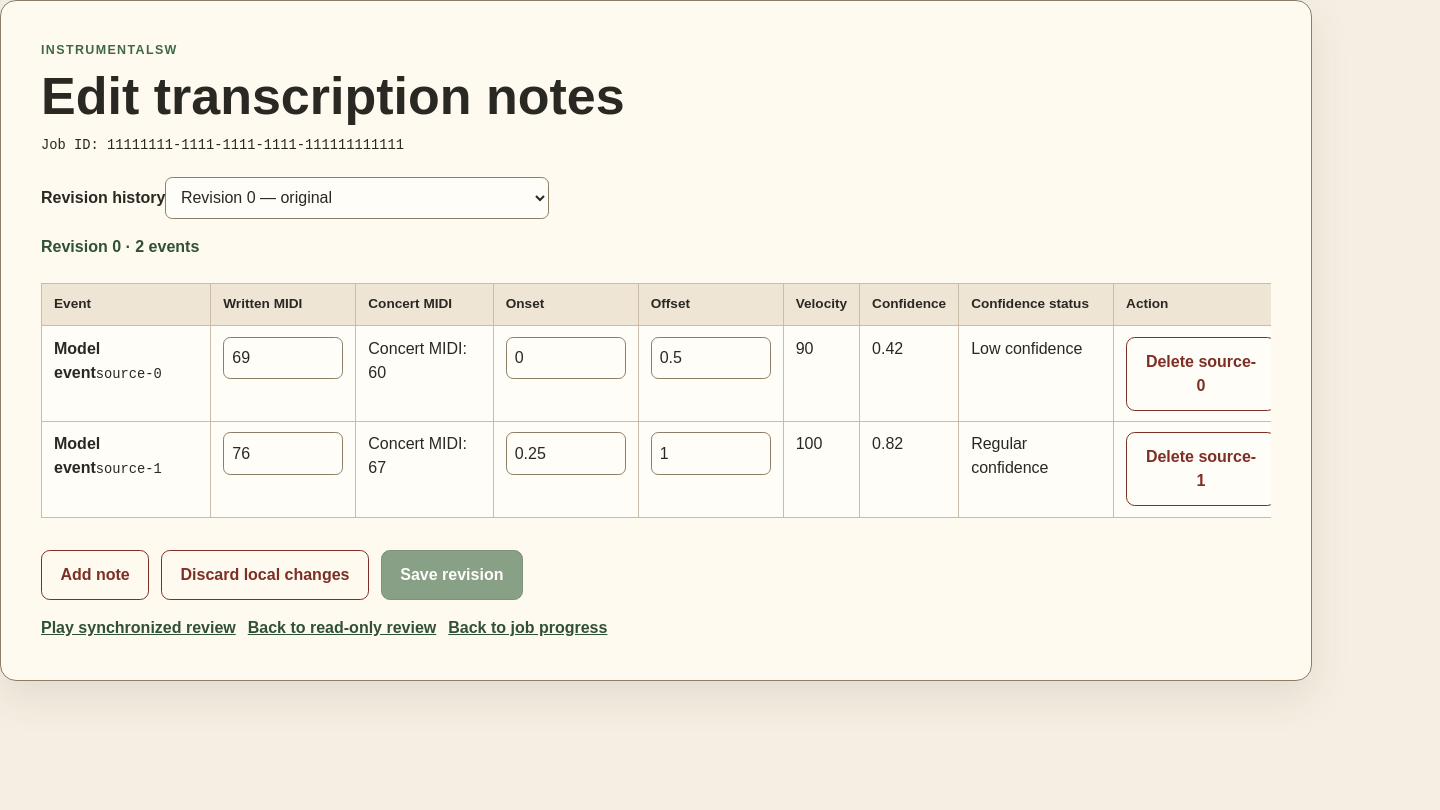
TranscriptionRevisionEditor › saves one explicit revision operation batch and shows stale artifacts
This screenshot has width=1440, height=810.
Clear the number field named "Written MIDI for source-0" at (283, 358), box [223,337,343,379]
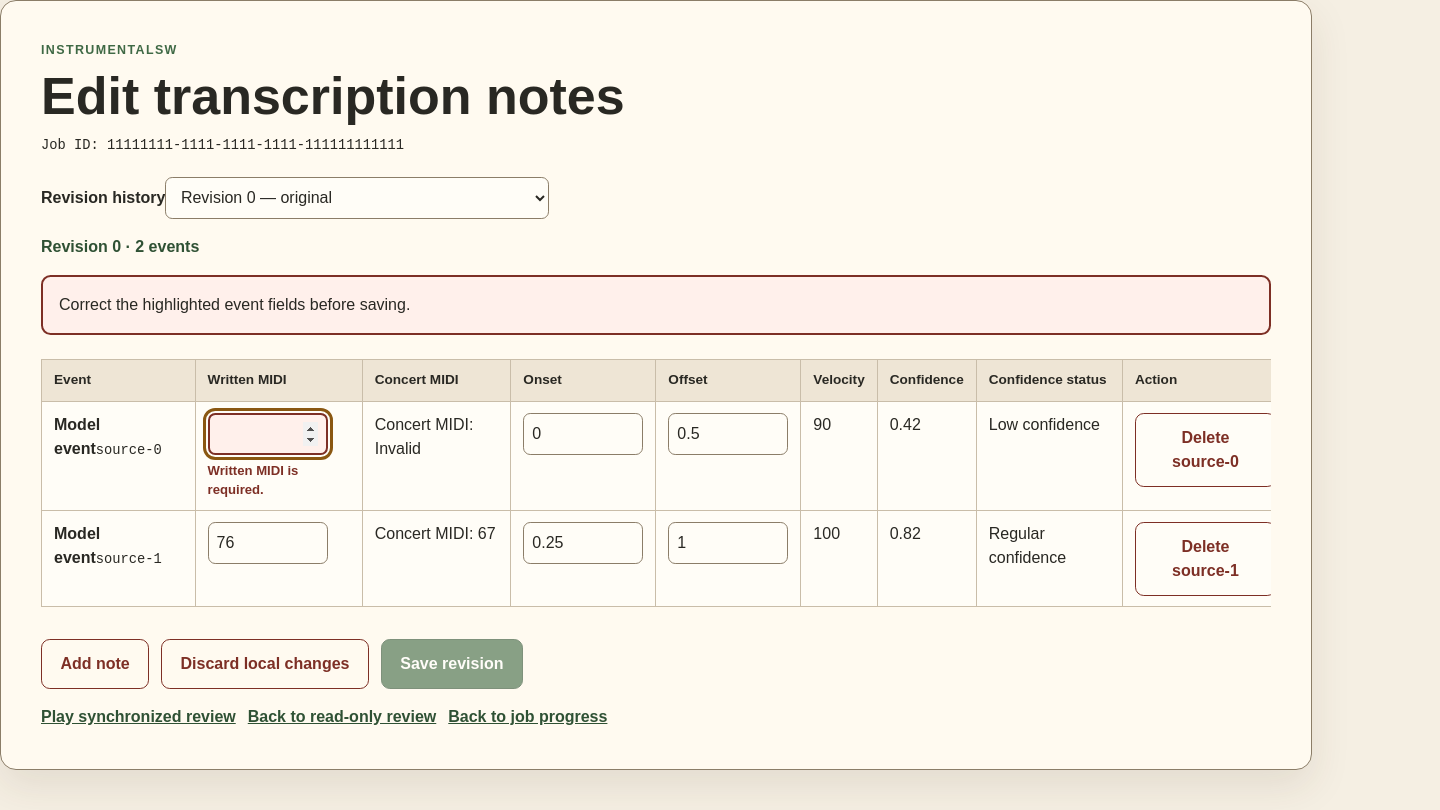
Type "70" into the number field named "Written MIDI for source-0".
click(268, 434); type("70")  # box [208,413,328,455]
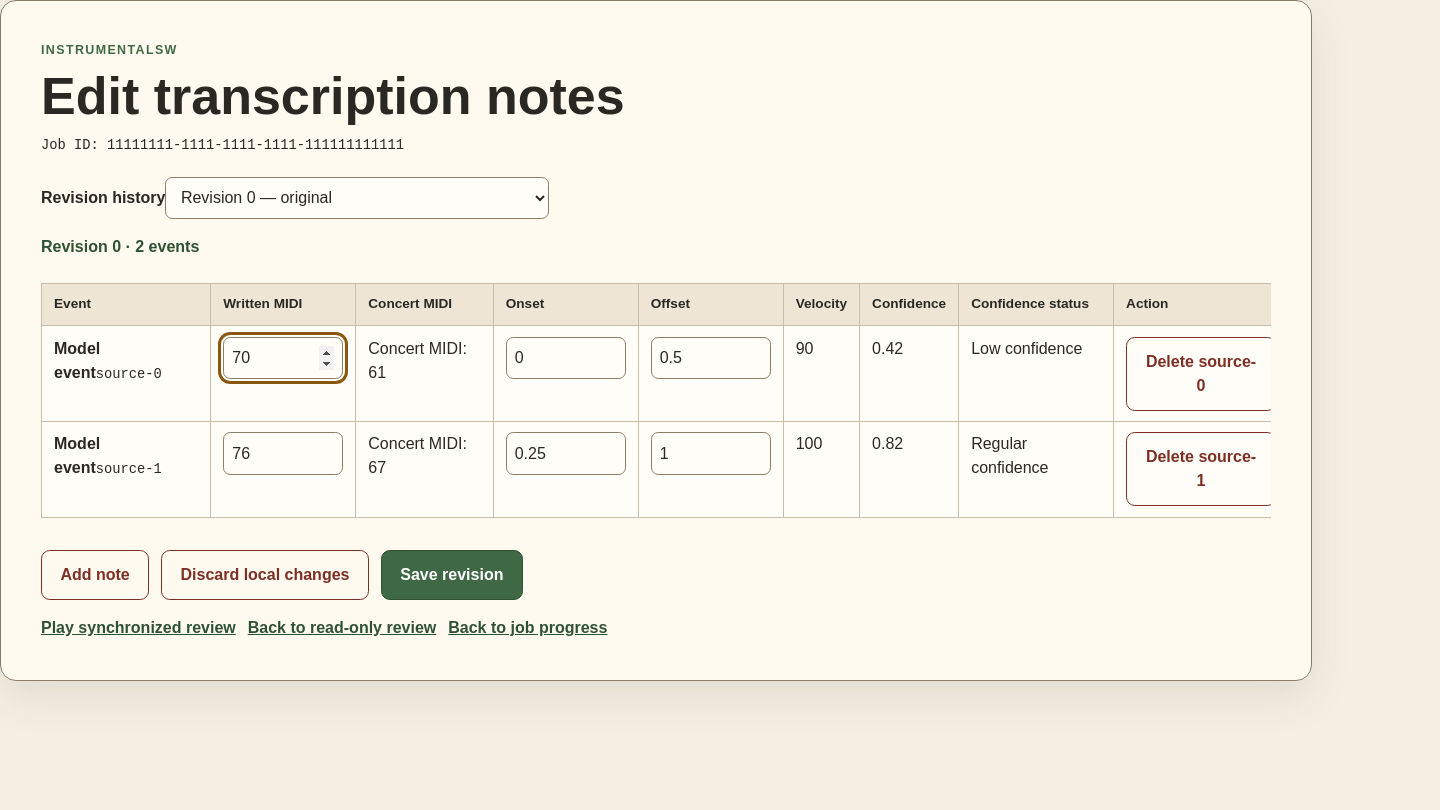
Click the button "Add note".
click(95, 575)  # box [41,550,149,600]
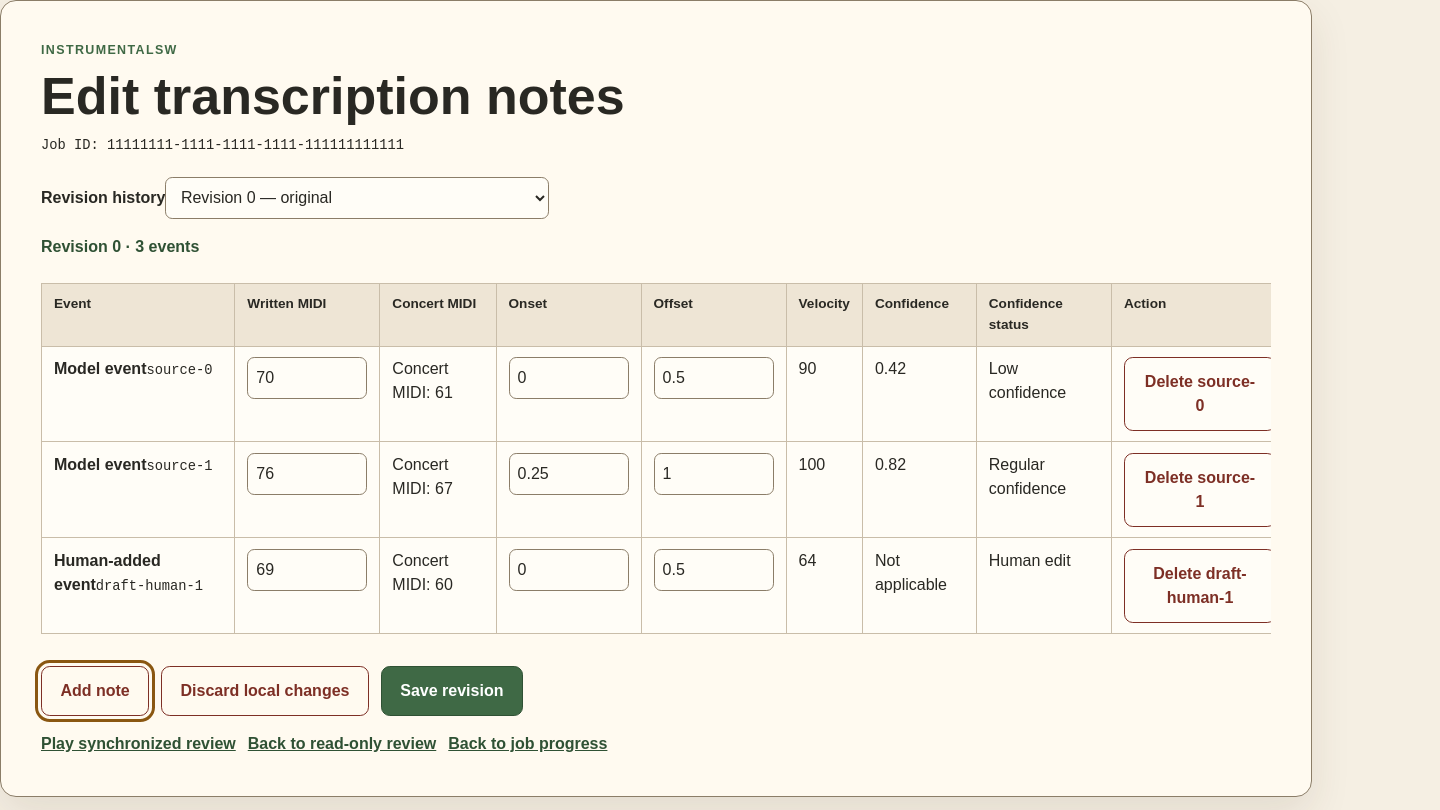
Click the button "Delete source-1".
click(1200, 490)  # box [1124,453,1276,527]
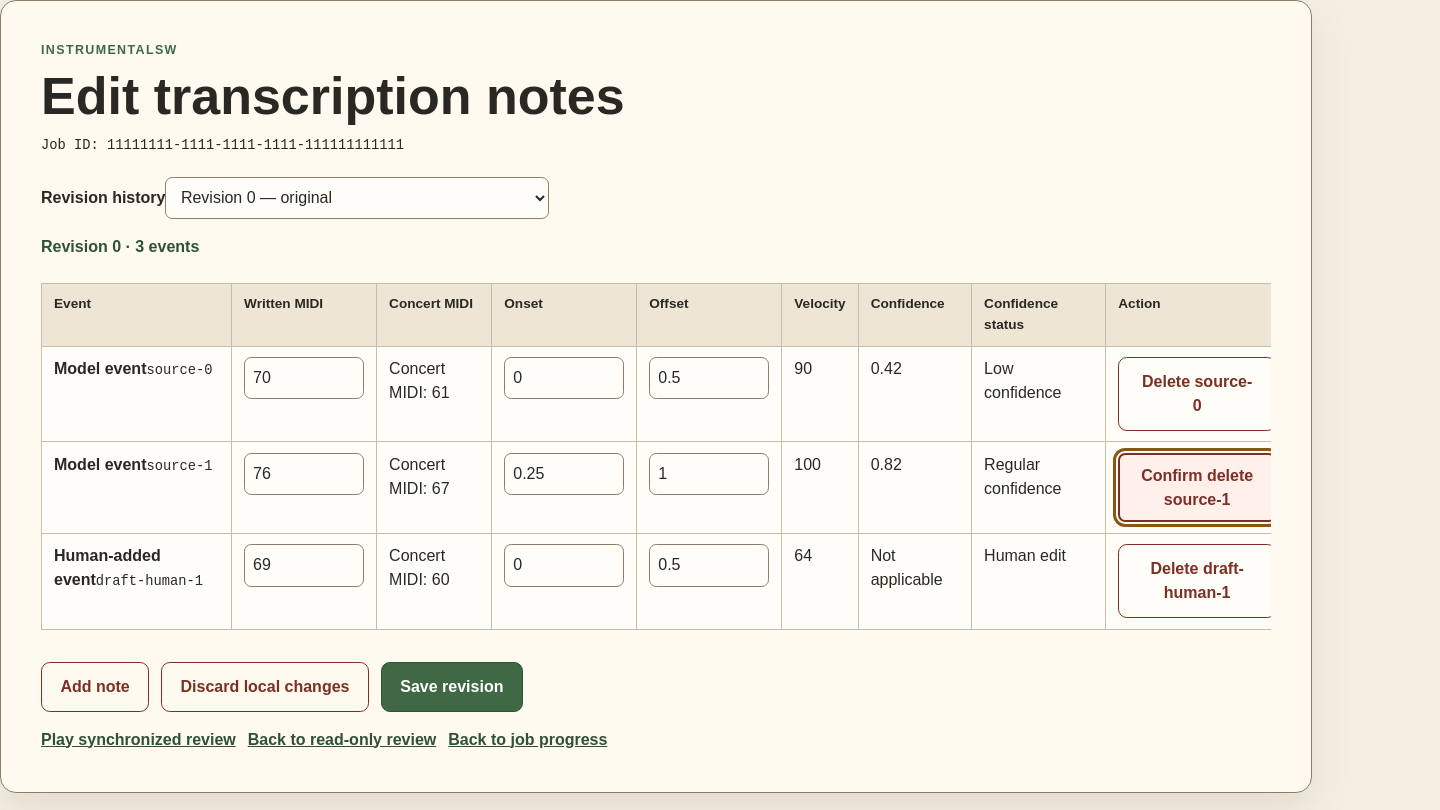
Click the button "Confirm delete source-1".
click(1197, 488)  # box [1118,453,1276,522]
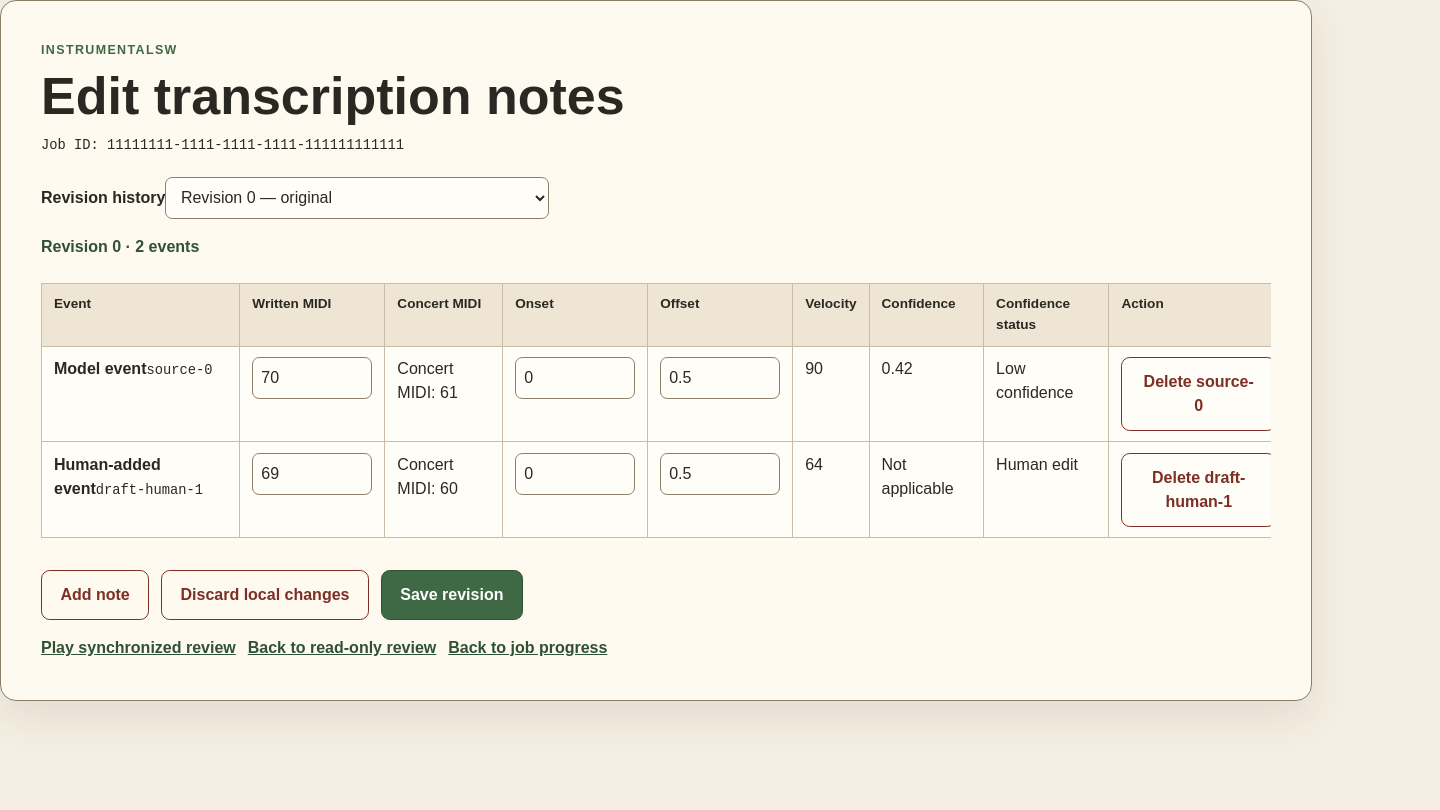
Click the button "Save revision".
click(452, 595)  # box [381,570,523,620]
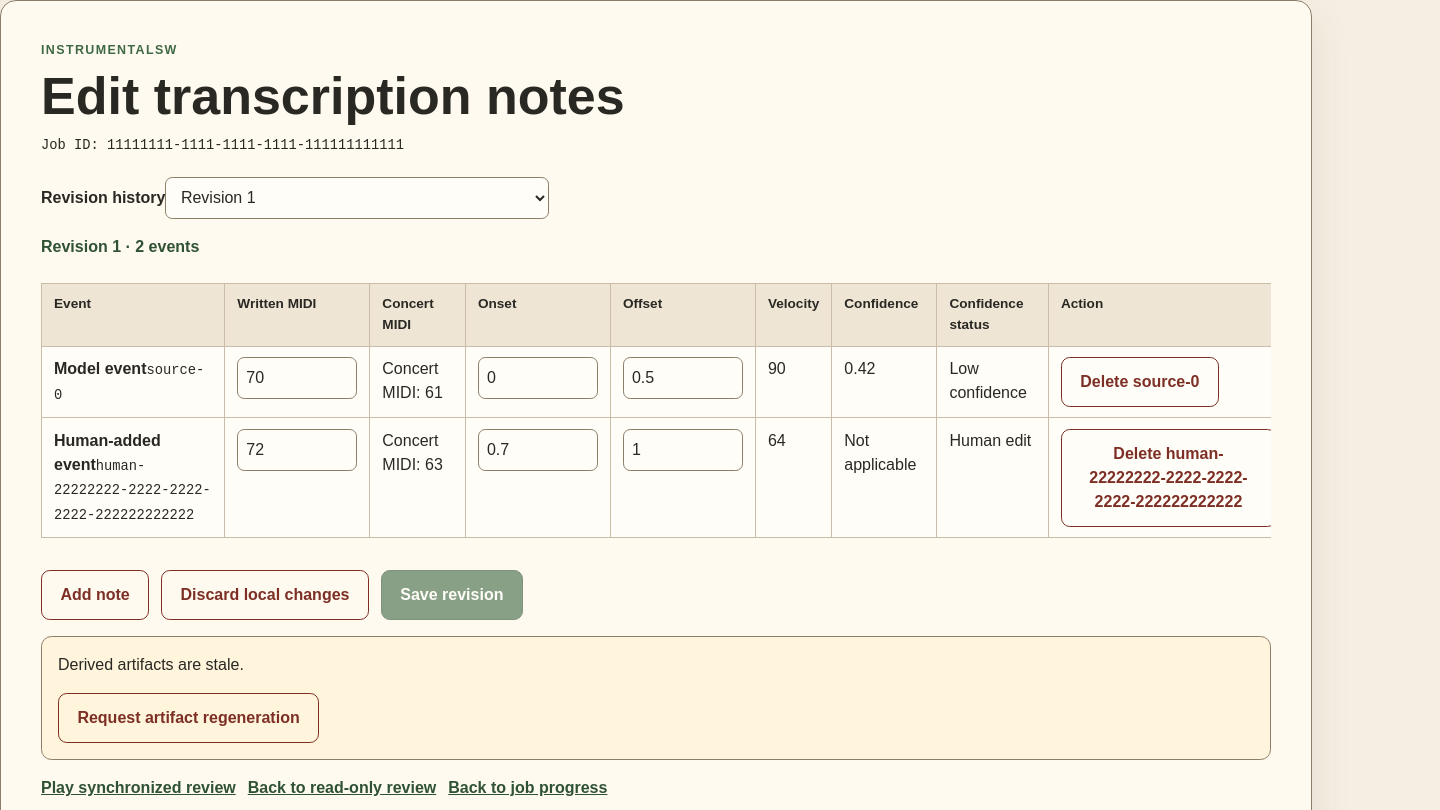
Now the text "Derived artifacts are stale." is shown, box [58,656,244,673]
Now the button "Request artifact regeneration" is enabled, box [58,693,319,743]
